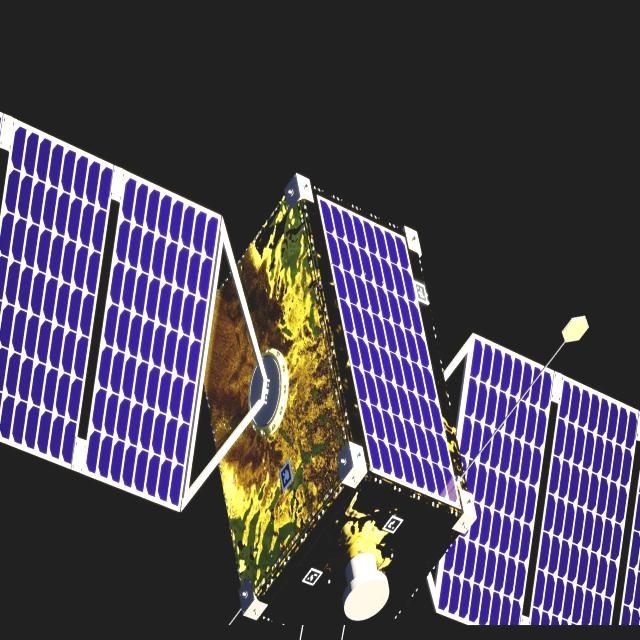satellite: (0, 112, 640, 637)
